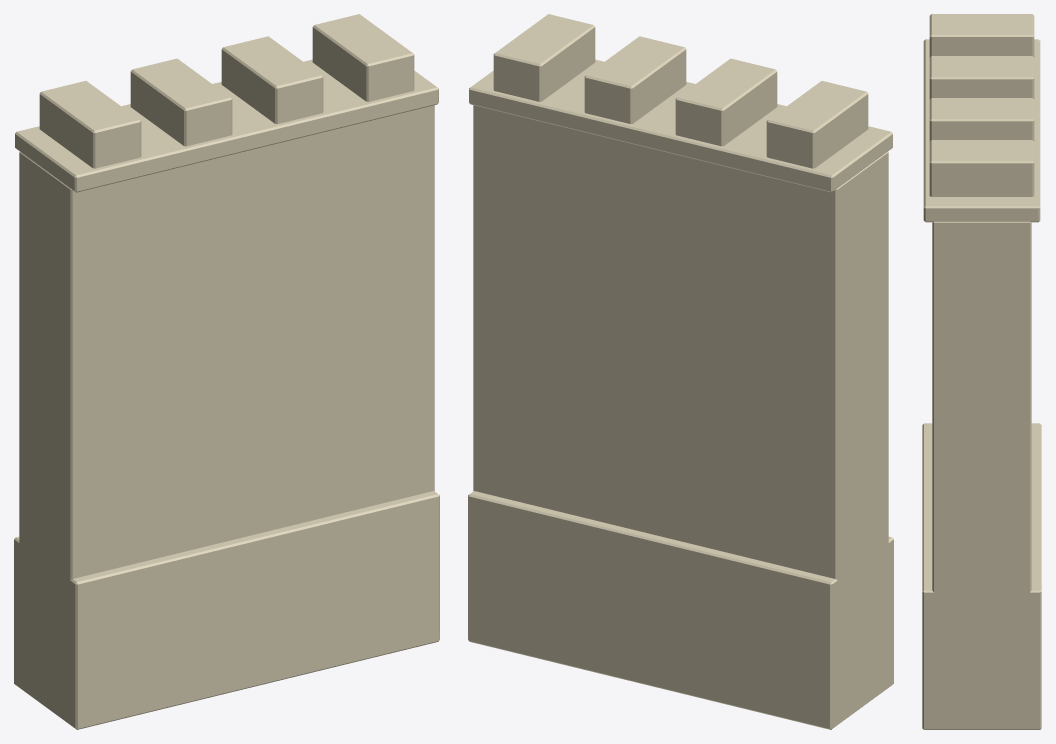
Rendered from city_wall_10m.glb.
The picture shows the model from 3 angles, left to right: view 1: azimuth 30°, elevation 25°; view 2: azimuth 150°, elevation 25°; view 3: azimuth 270°, elevation 25°; orthographic projection. The views are drawn at different scales.
Parts seen in each view (by area): view 1: city_wall_10m; view 2: city_wall_10m; view 3: city_wall_10m.
Boxes of the visible parts, bbox=[...] form: city_wall_10m: bbox=[14, 14, 439, 729]; city_wall_10m: bbox=[468, 14, 893, 729]; city_wall_10m: bbox=[922, 14, 1041, 729].
Bounding box in the file's own units: 8 × 12.4 × 2.4.
